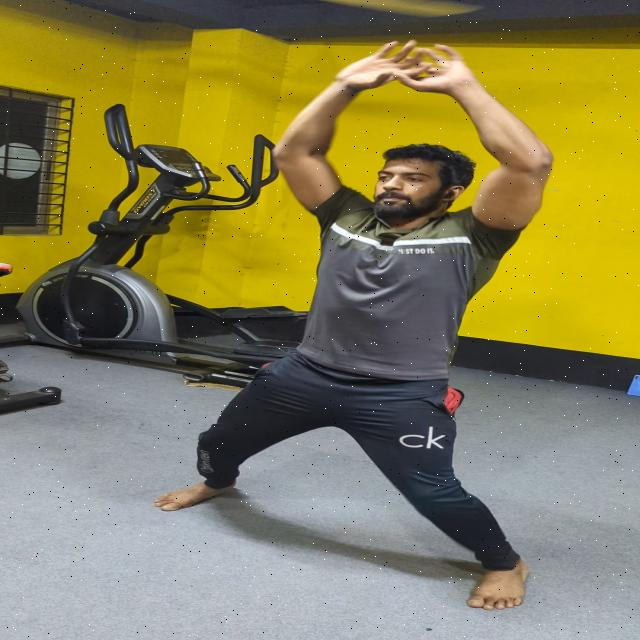Normal_JumpingJacks: (100, 33, 640, 604)
